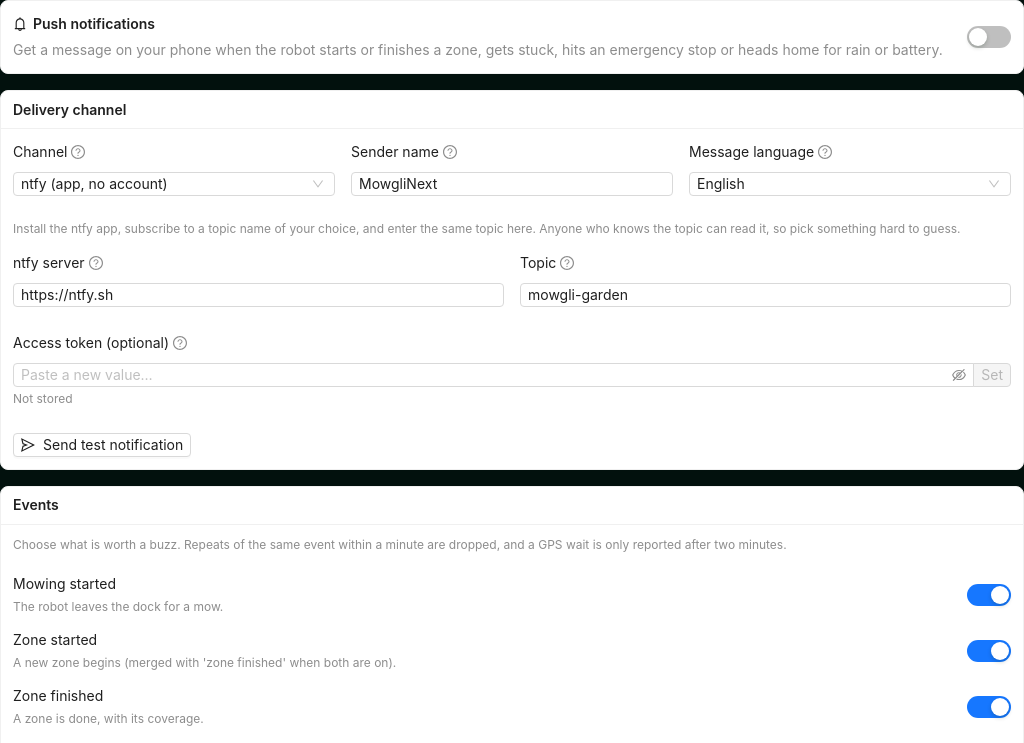
it: NotificationsSection › surfaces a failed test with the backend's reason
The image size is (1024, 743).
Click the button "Send test notification": (102, 445) [13,433,191,457]
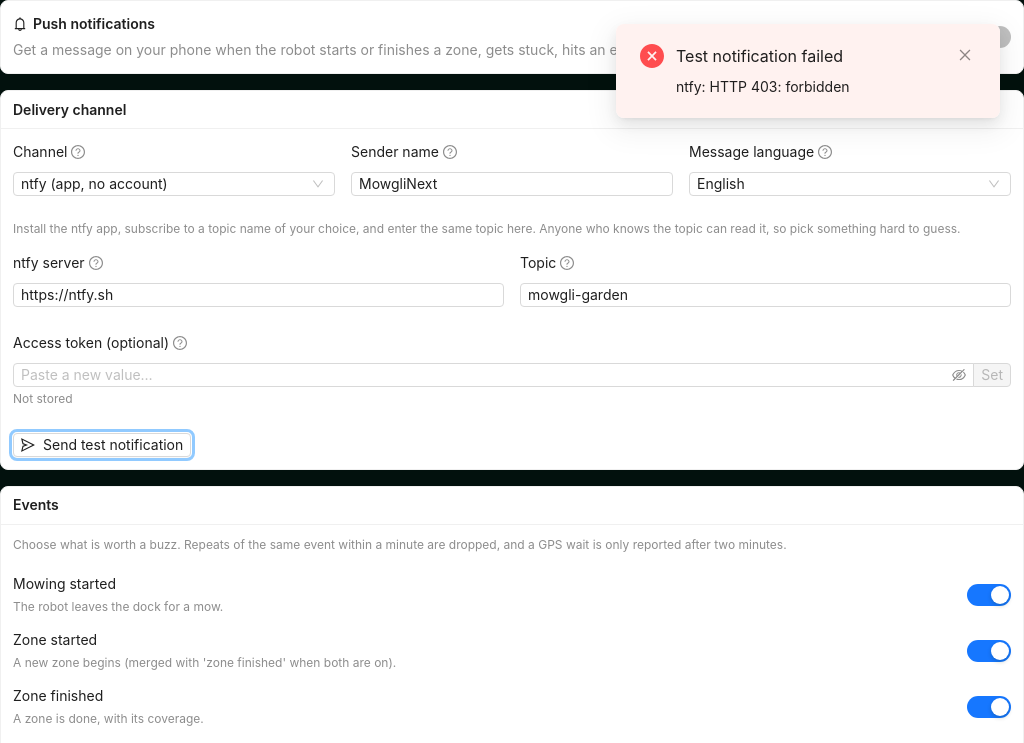
Check: the text "Test notification failed" is shown, box [676,46,843,66]
Check: the text "ntfy: HTTP 403: forbidden" is shown, box [676,78,850,95]
